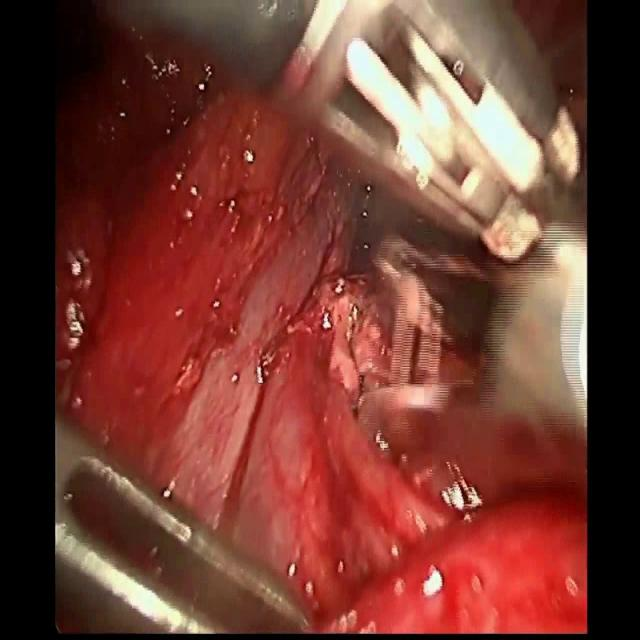surgical-area: (55, 0, 588, 633), (78, 501, 276, 633), (514, 0, 587, 223)
surgical-tool: (106, 0, 587, 489), (56, 408, 315, 636)
